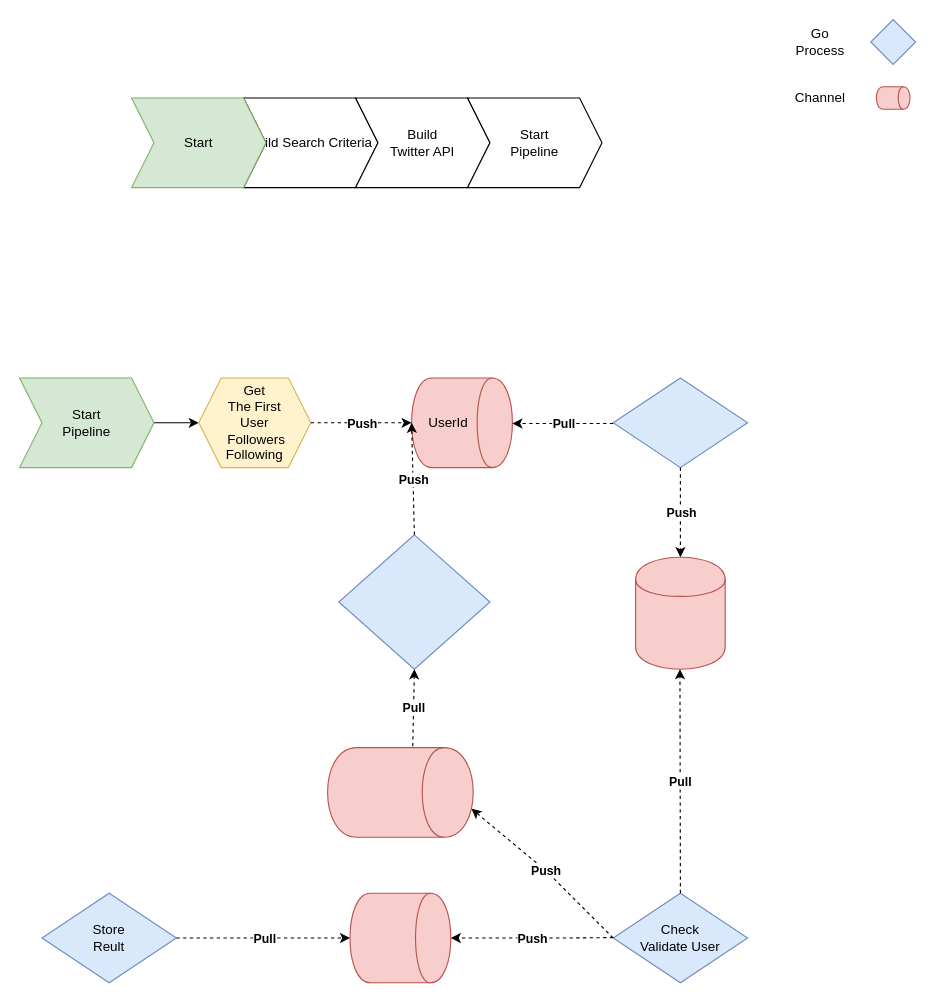
This 935x1002 diagram has some shape labels left out. Here are the shapes that lost their labels. From the top down, the centre of each, then its label:
[680,422]: Get Users Details Batches
[414,601]: Get User Followers Following
[679,612]: Channel UserDetails
[399,791]: User To Investigate
[400,937]: Valid User
